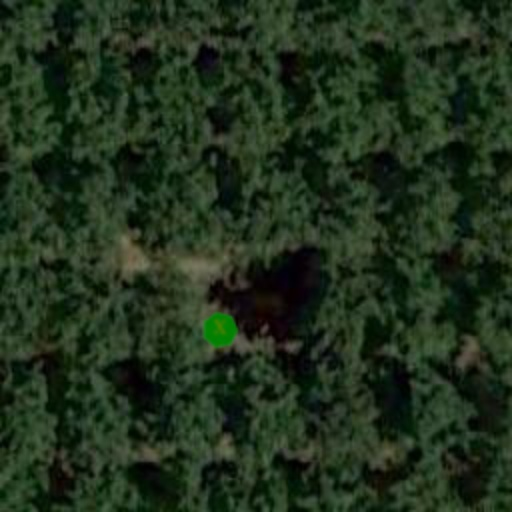heptagon: (200, 310, 240, 350)
